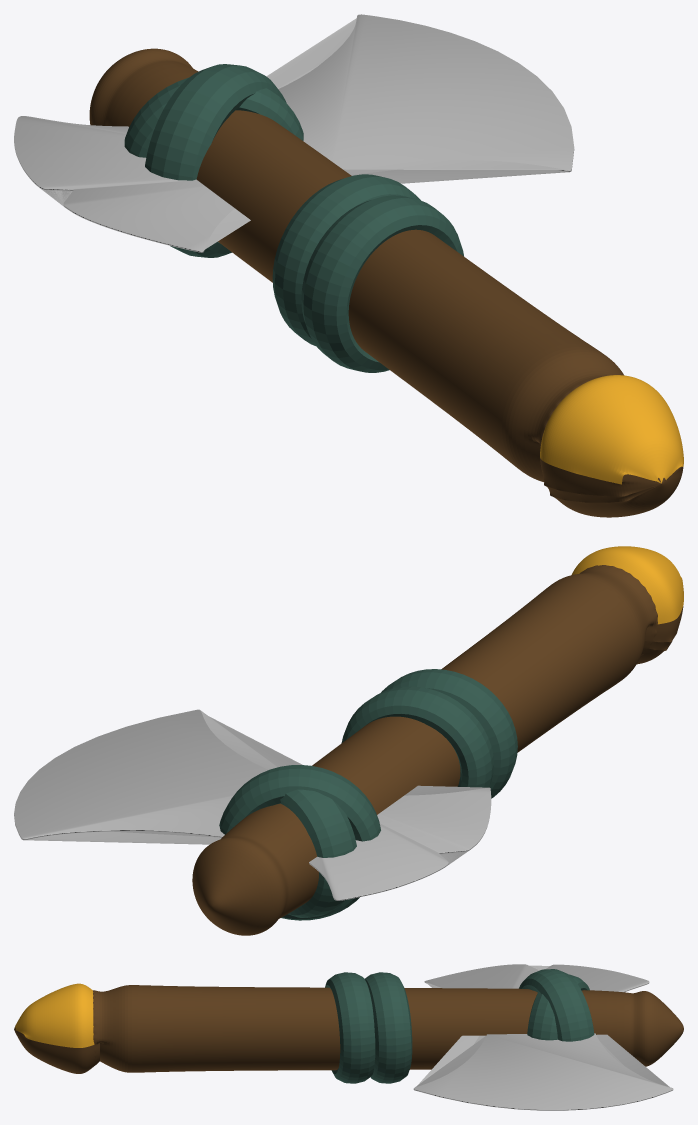
File: Axe.fbx
3 renders of one model, top to bottom at view 1: azimuth 30°, elevation 25°; view 2: azimuth 150°, elevation 25°; view 3: azimuth 270°, elevation 25°, orthographic. The views are drawn at different scales.
Parts seen in each view (by area): view 1: Cylinder, BezierCurve, Cylinder.001, Torus.003, Torus.001, Torus.002, Torus; view 2: Cylinder, BezierCurve, Torus.002, Torus.001, Torus.003, Torus, Cylinder.001; view 3: Cylinder, BezierCurve, Torus.002, Torus.003, Cylinder.001, Torus.001, Torus.
Part boxes in pixels (<box>): Cylinder: <box>89,48,683,517</box>; BezierCurve: <box>14,14,574,252</box>; Cylinder.001: <box>540,375,683,484</box>; Torus.003: <box>301,195,463,372</box>; Torus.001: <box>145,64,286,257</box>; Torus.002: <box>272,174,420,346</box>; Torus: <box>124,77,303,157</box>; Cylinder: <box>192,565,683,935</box>; BezierCurve: <box>14,709,491,900</box>; Torus.002: <box>341,686,493,787</box>; Torus.001: <box>219,765,380,920</box>; Torus.003: <box>381,669,517,798</box>; Torus: <box>280,789,356,917</box>; Cylinder.001: <box>571,546,683,624</box>; Cylinder: <box>14,985,683,1073</box>; BezierCurve: <box>413,964,673,1110</box>; Torus.002: <box>365,972,412,1083</box>; Torus.003: <box>325,972,375,1083</box>; Cylinder.001: <box>14,983,94,1047</box>; Torus.001: <box>519,969,594,1041</box>; Torus: <box>527,974,589,1040</box>.
Bounding box in the file's own units: 241 × 84.47 × 470.
